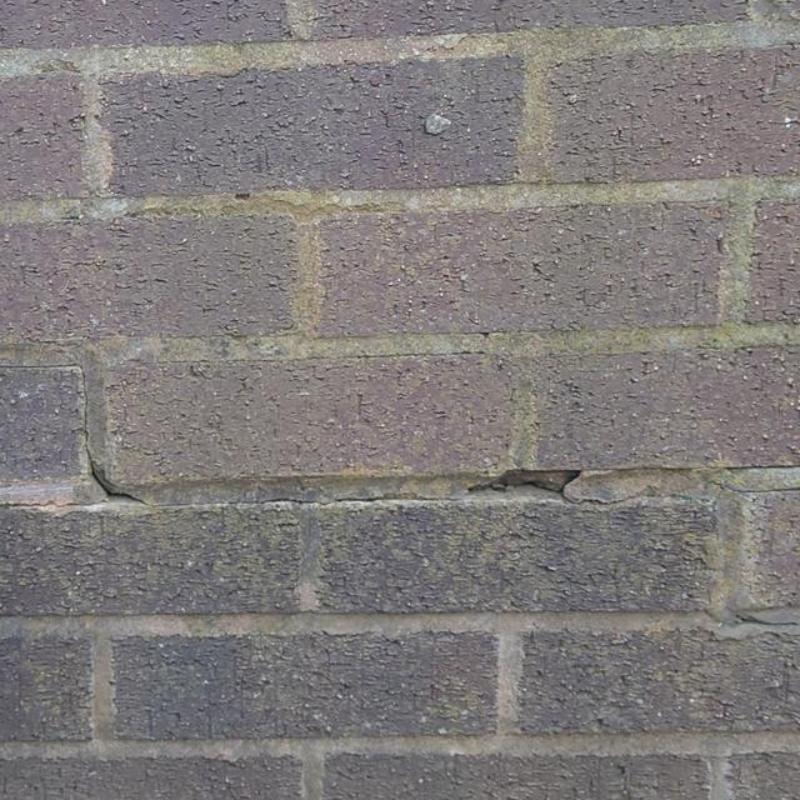pothole: (261, 470, 642, 508), (0, 364, 89, 425), (85, 425, 147, 503), (706, 479, 799, 494), (735, 612, 799, 628)
